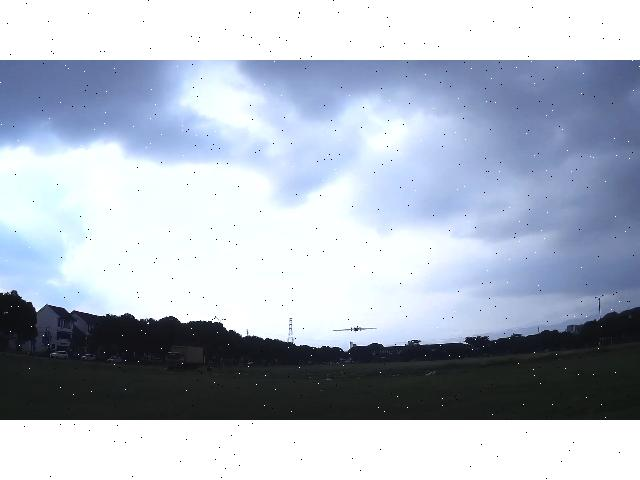Anti-Drone: (332, 326, 378, 332)
